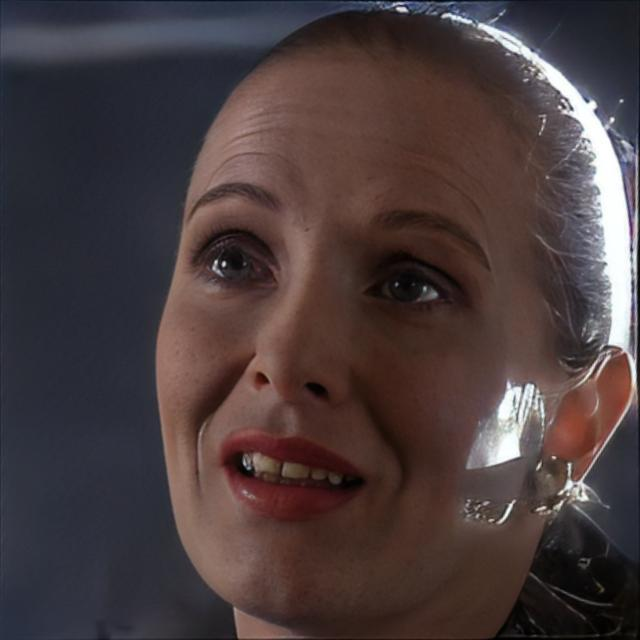fear: (152, 48, 547, 614)
